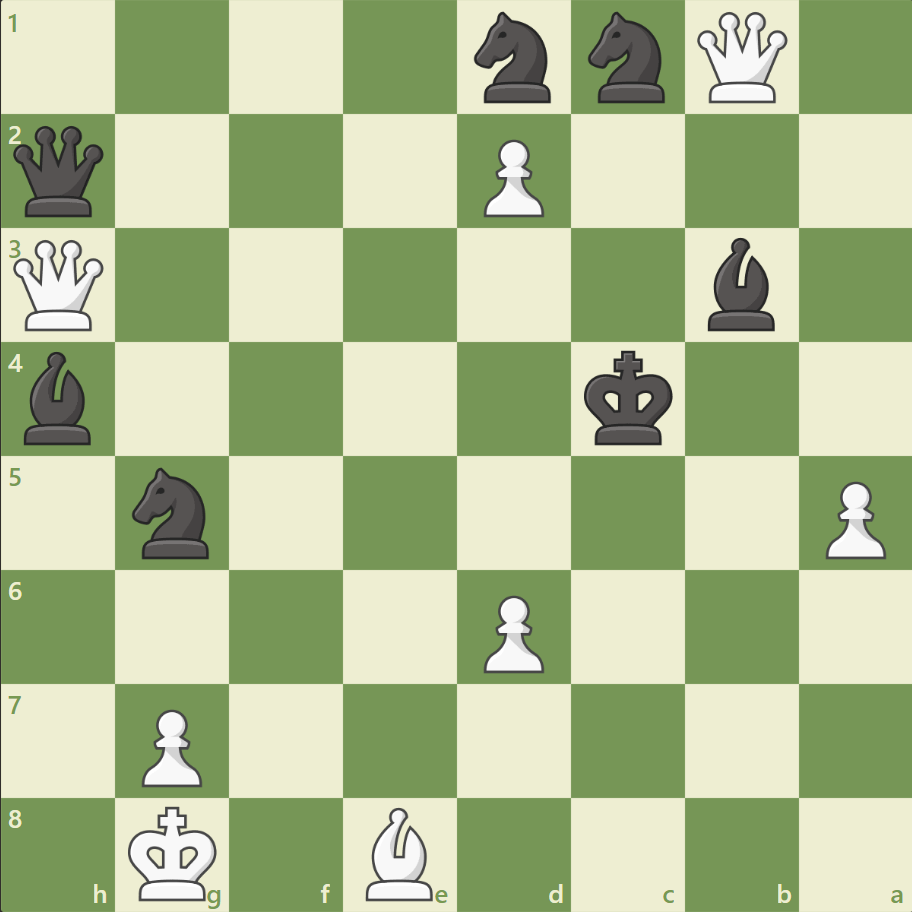B: (358, 801, 442, 904)
K: (124, 798, 224, 906)
P: (133, 700, 208, 791), (474, 586, 549, 677), (474, 132, 549, 223), (815, 473, 889, 564)
Q: (10, 236, 109, 335), (691, 9, 790, 108)
b: (698, 233, 782, 336), (17, 347, 101, 449)
k: (579, 344, 679, 452)
n: (124, 461, 222, 564), (579, 7, 676, 110), (465, 7, 562, 110)
q: (10, 122, 109, 222)
